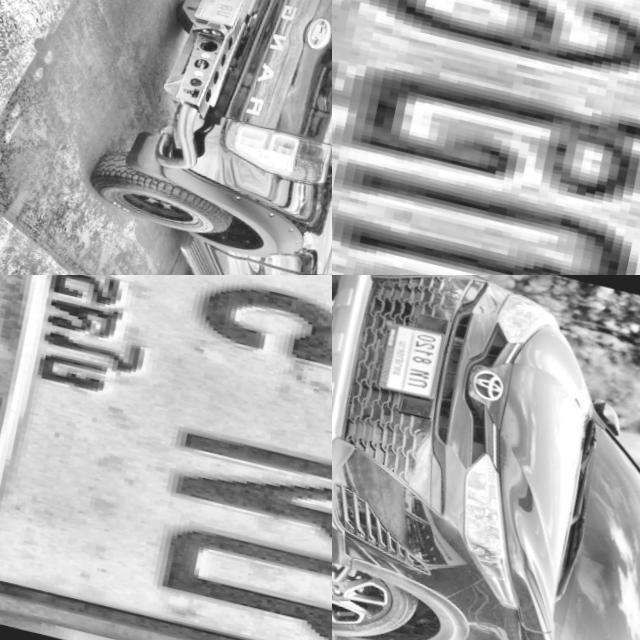license-plate: (0, 275, 332, 640), (332, 0, 640, 275), (375, 317, 447, 399), (189, 0, 250, 28)
